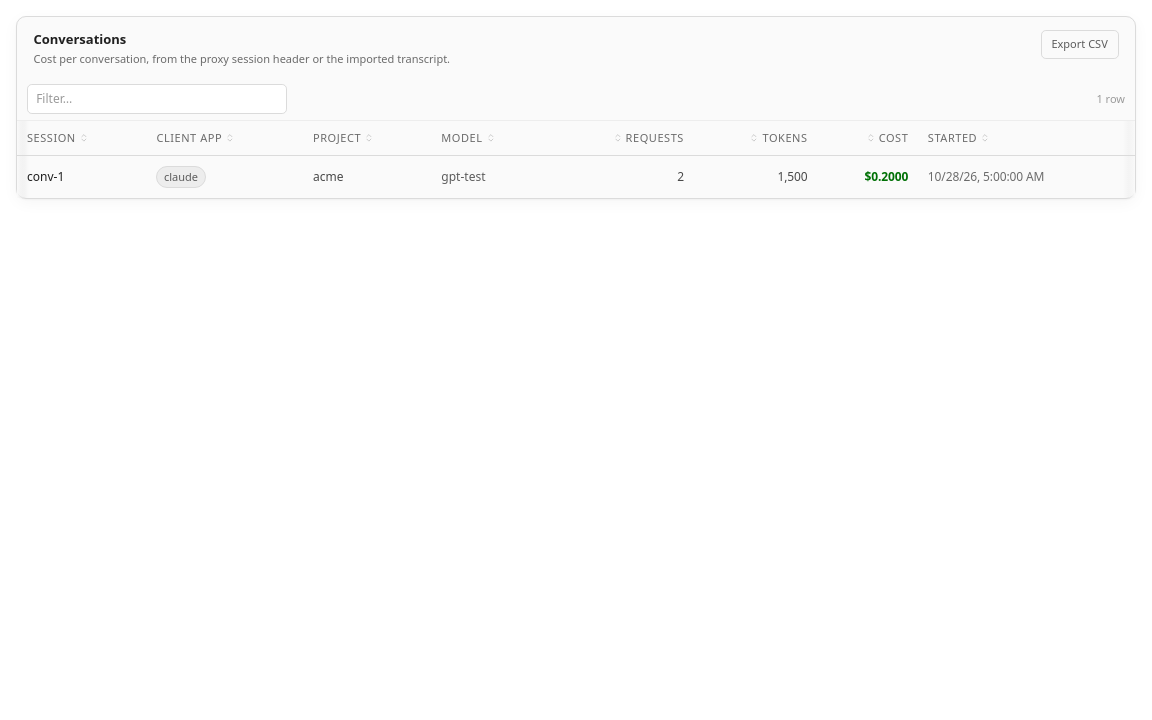
SessionsView › rolls a conversation up and opens its events
The width and height of the screenshot is (1152, 720).
Expected: the text "claude" is shown, [156, 166, 206, 188]
Click the text "conv-1" at (46, 176), box [27, 168, 64, 185]
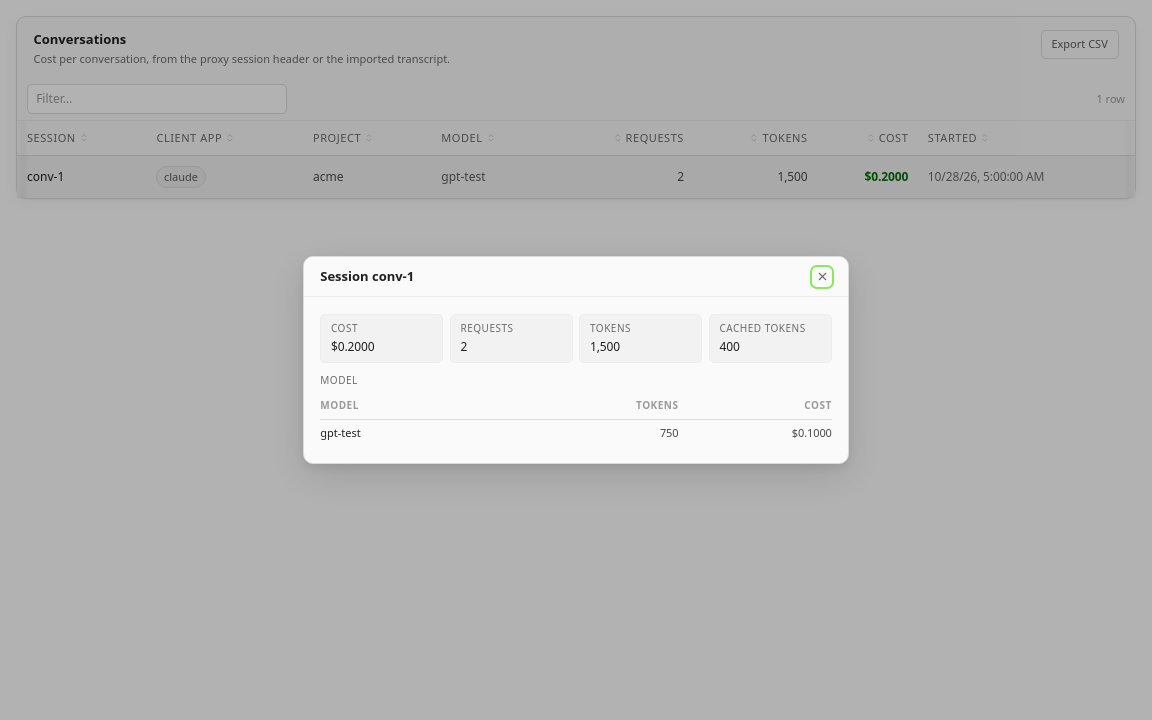
Result: the heading "Session conv-1" is shown at [320, 267, 414, 287]
Result: the text "gpt-test" is shown at [320, 420, 501, 446]
